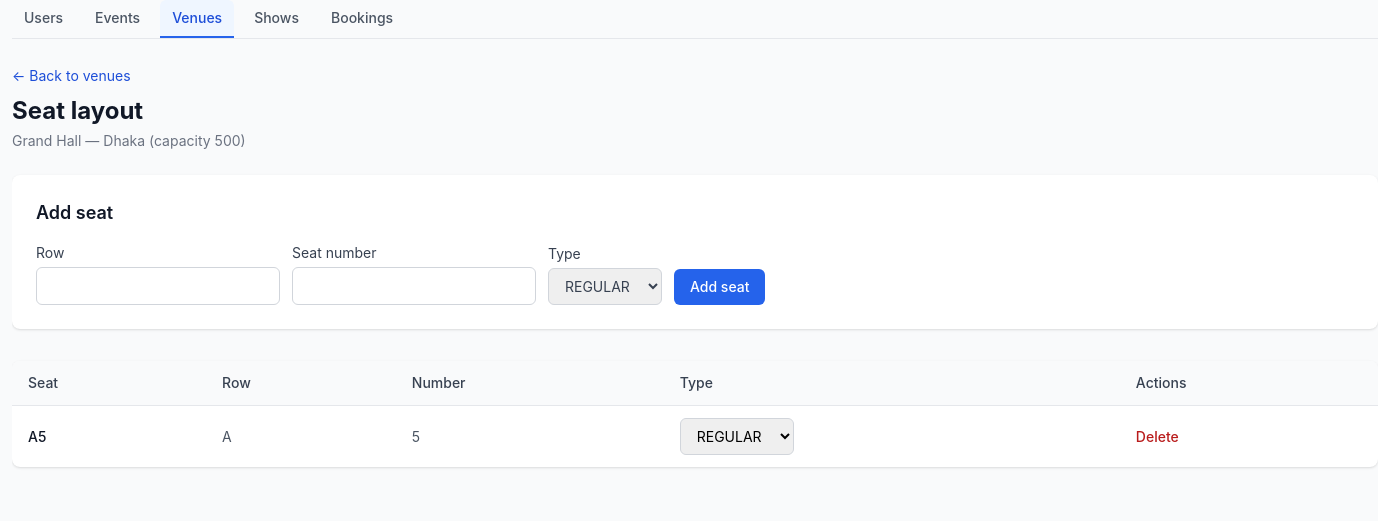
Test: AdminVenueSeatsPage › loads the venue, seat table and adds a seat
The width and height of the screenshot is (1378, 521).
Check: the text "A5" is shown, box [12,406,206,467]
Check: the text "Grand Hall — Dhaka (capacity 500)" is shown, box [12,132,246,149]
Type "B" into the field named "Row number" at (158, 286), box [36,267,280,305]
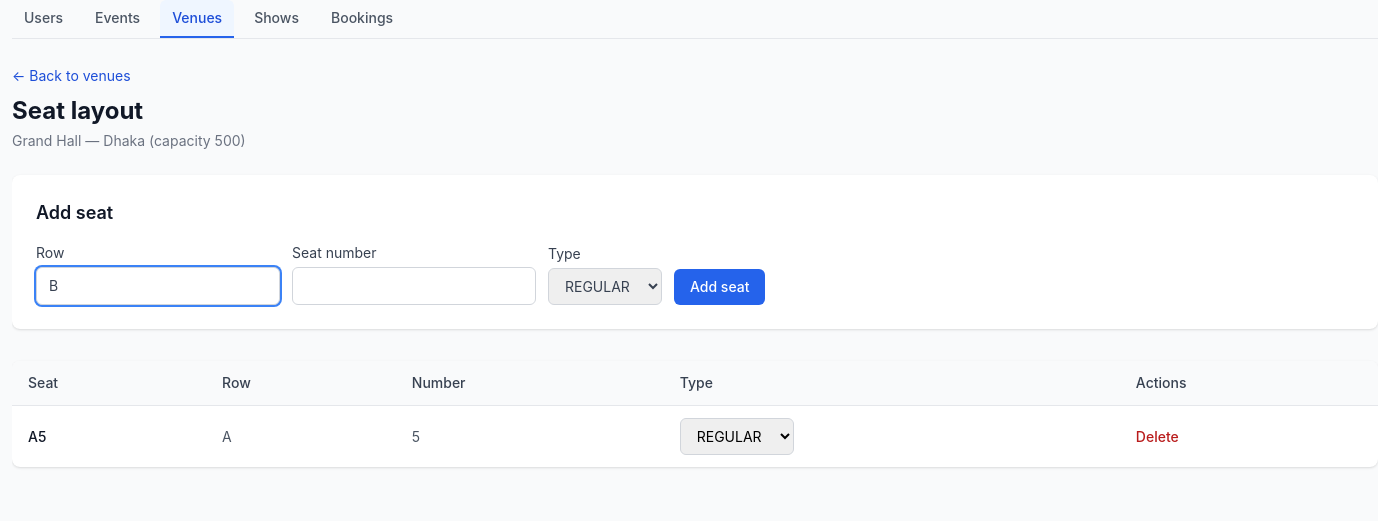
Type "1" into the field labelled "Seat number" at (414, 286), box [292,267,536,305]
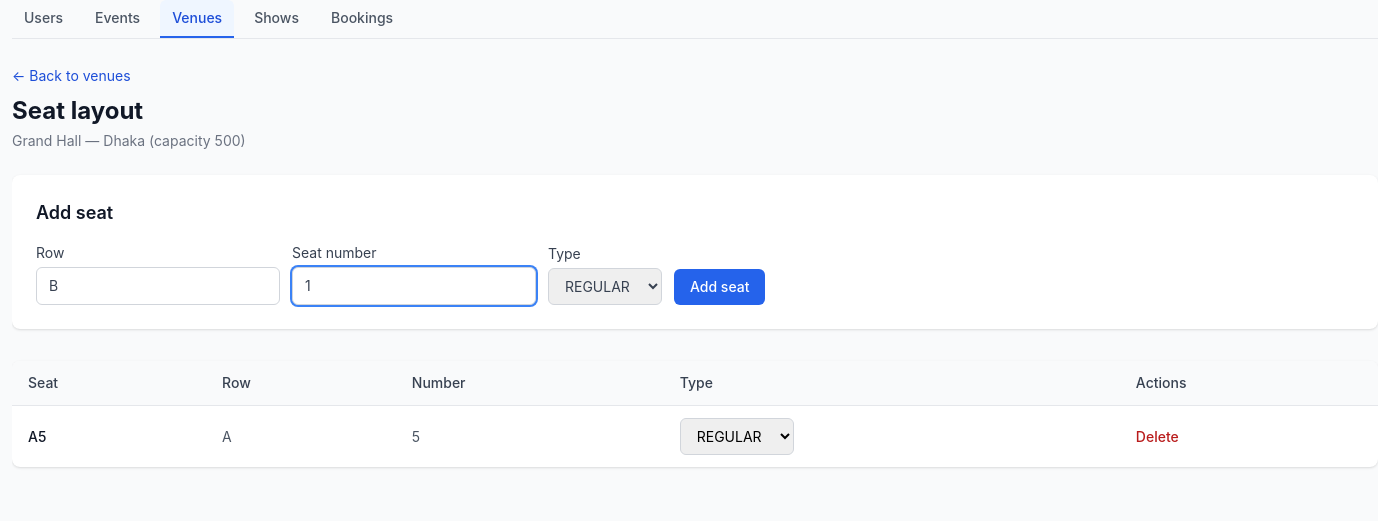
Click the button "Add seat" at (720, 287), box [674,269,766,305]
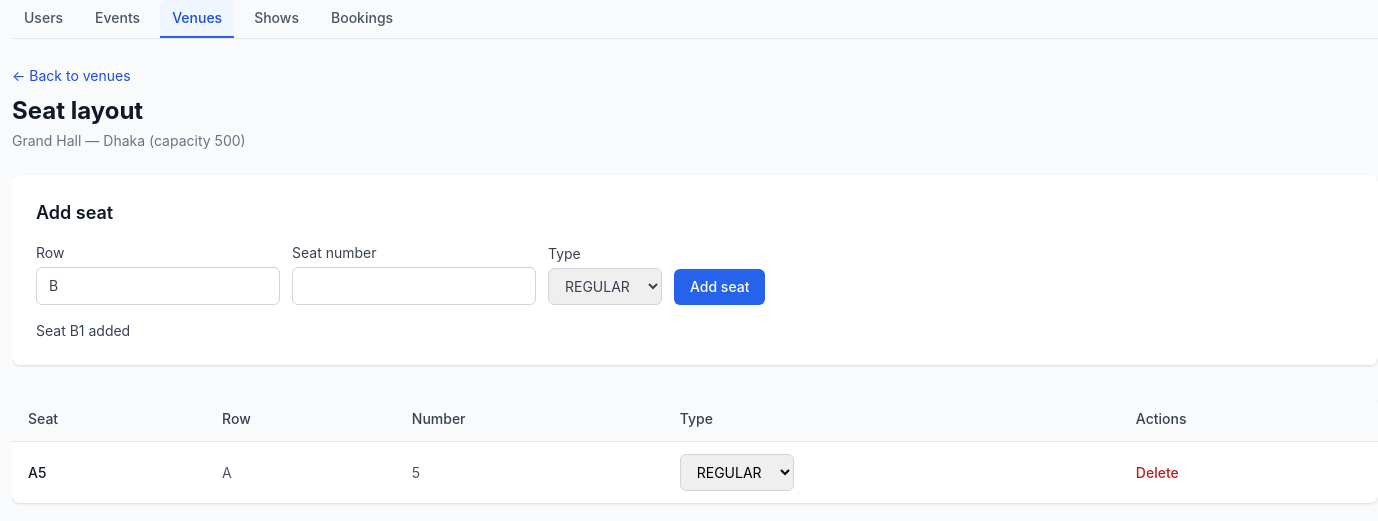
Check: the text "Seat B1 added" is shown, box [36,322,130,339]
